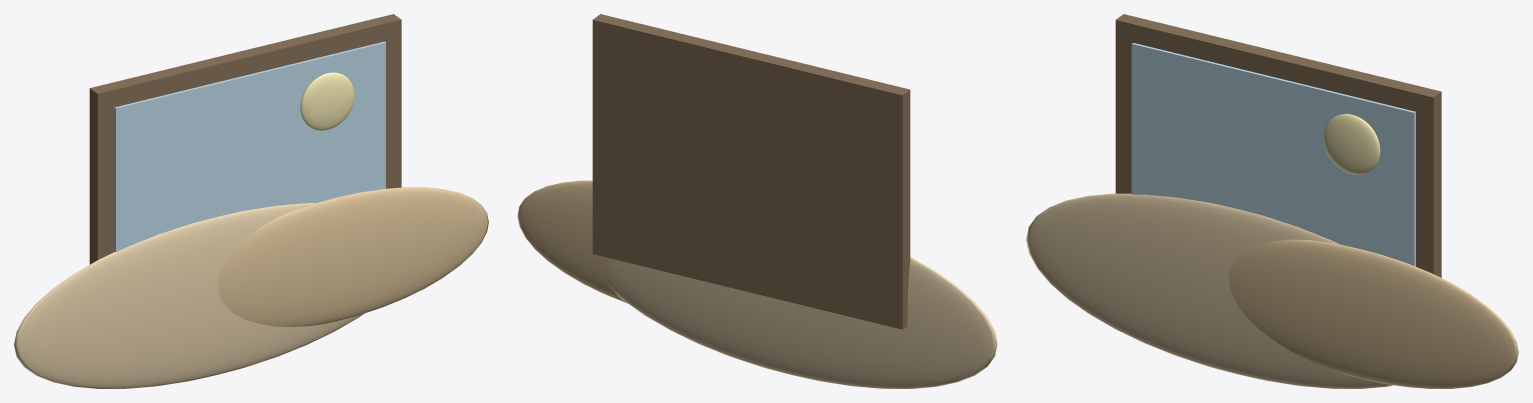
Rendered from landscape.glb.
The picture shows the model from 3 angles, left to right: view 1: azimuth 30°, elevation 25°; view 2: azimuth 150°, elevation 25°; view 3: azimuth 330°, elevation 25°; orthographic projection. The views are drawn at different scales.
Bounding box in the file's own units: 2.8 × 1.75 × 0.16.
